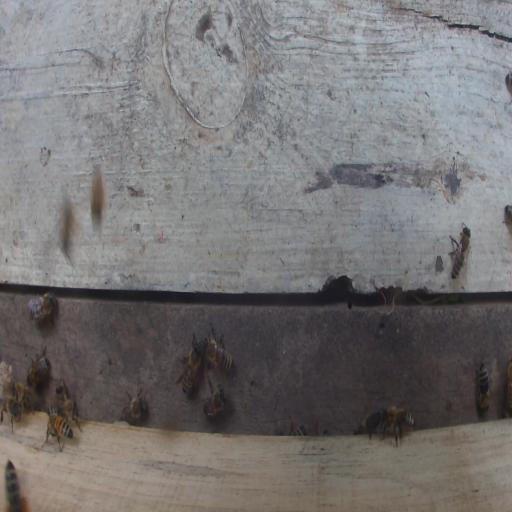bee: (176, 334, 203, 397), (205, 324, 234, 376), (381, 405, 415, 448), (3, 456, 29, 512), (448, 221, 471, 280), (44, 411, 74, 453), (90, 164, 106, 232), (26, 347, 50, 389), (119, 387, 146, 424), (202, 379, 226, 418), (26, 292, 57, 322), (11, 380, 37, 413), (475, 360, 491, 412), (355, 410, 383, 439), (1, 395, 23, 431), (55, 379, 75, 417), (289, 415, 306, 436), (506, 357, 512, 414), (505, 72, 512, 99), (60, 412, 61, 414)
